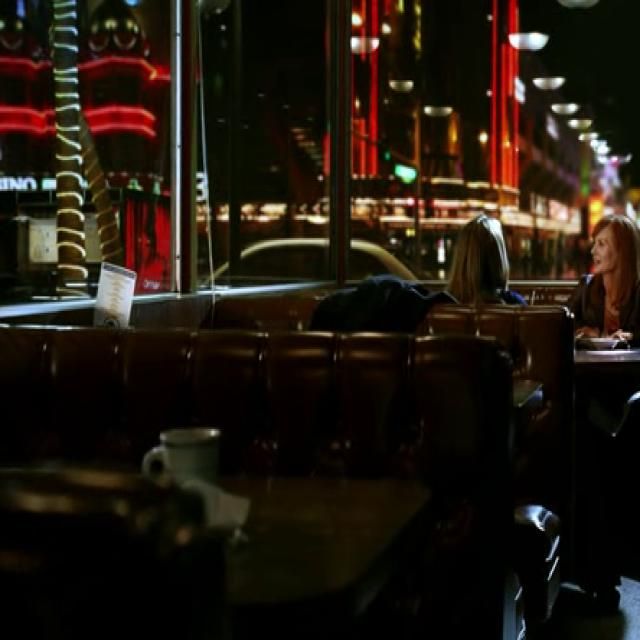Cup: (147, 406, 227, 512)
People: (446, 198, 530, 349), (581, 211, 640, 334)
Table: (0, 467, 438, 638)
car: (196, 216, 418, 312)
chair: (0, 326, 545, 483)
